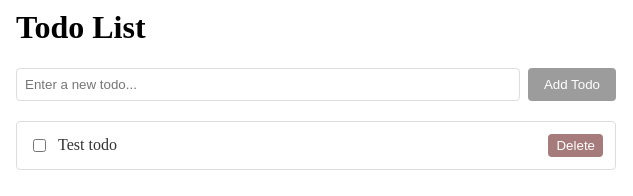
Test: App › should delete todos
The width and height of the screenshot is (633, 196).
Click the button named "Delete todo: Test todo". click: x=576, y=145
box: x1=548 y1=134 x2=603 y2=157
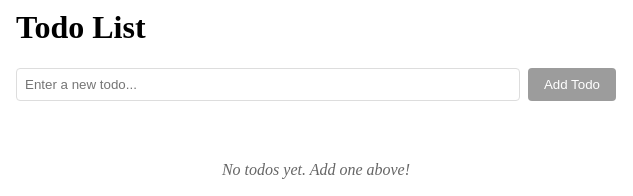
Expected: the text "Test todo" is gone
Expected: the text "No todos yet. Add one above!" is shown, x1=222 y1=161 x2=410 y2=178
